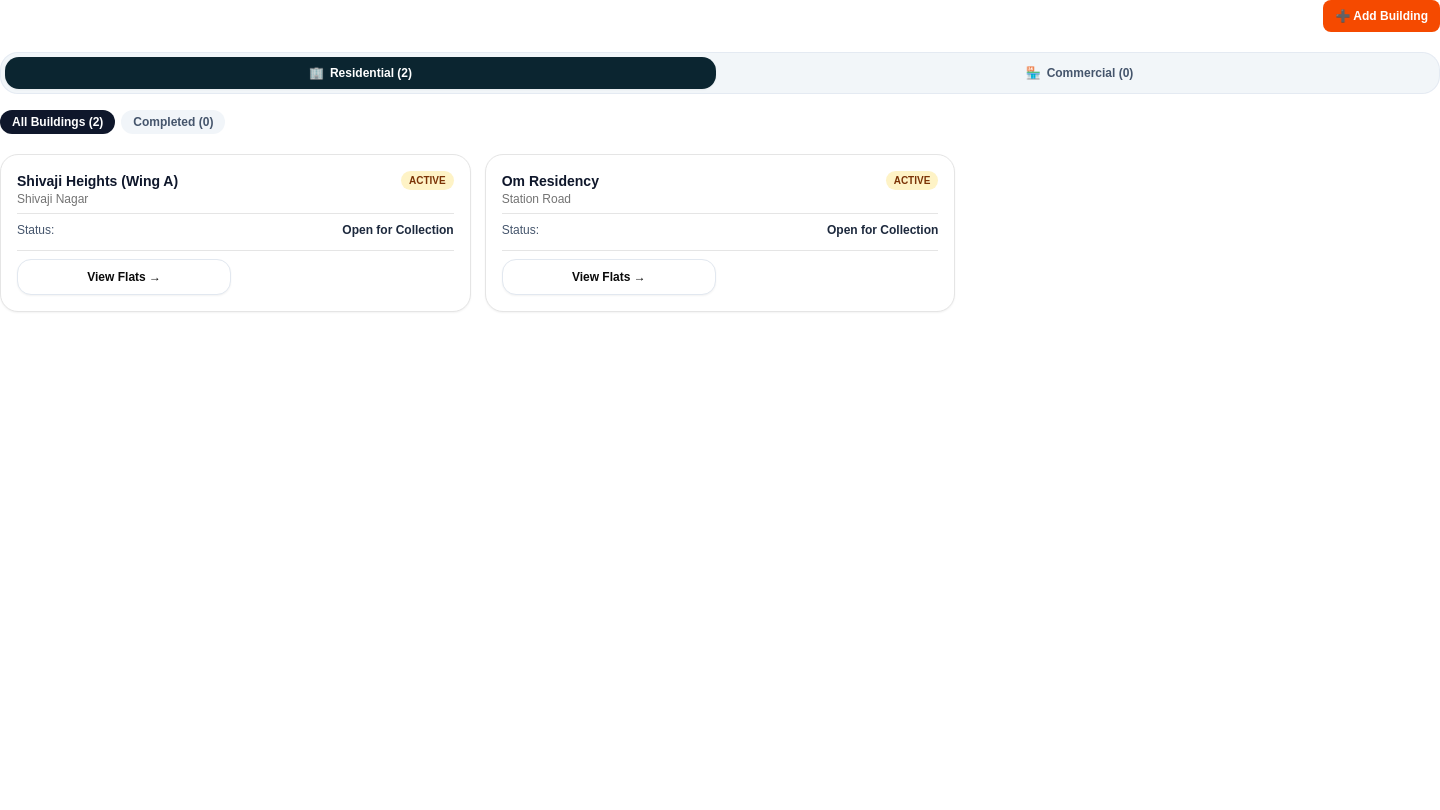
Test: Phase 2I: BuildingsManagementPanel Component › warns on duplicate flat number in same building
This screenshot has width=1440, height=810.
Expected: the heading "Shivaji Heights (Wing A)" is shown, 17,171 -> 178,191
Click the button "View Flats →" below "Shivaji Nagar".
click(124, 277)  # box 17,259 -> 231,295
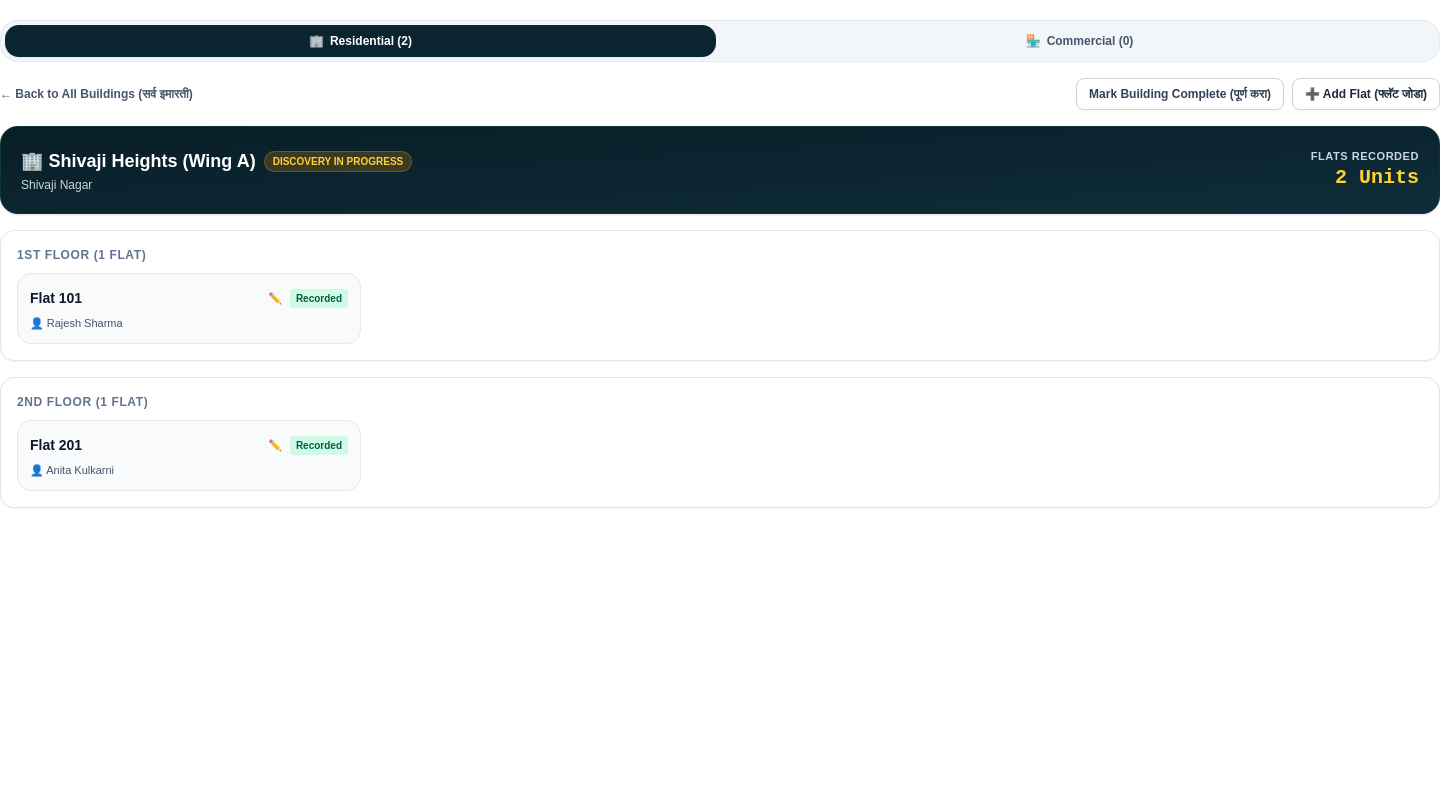
Now the button "➕ Add Flat (फ्लॅट जोडा)" is shown
Click the button "➕ Add Flat (फ्लॅट जोडा)".
click(1366, 94)  # box 1292,78 -> 1439,110
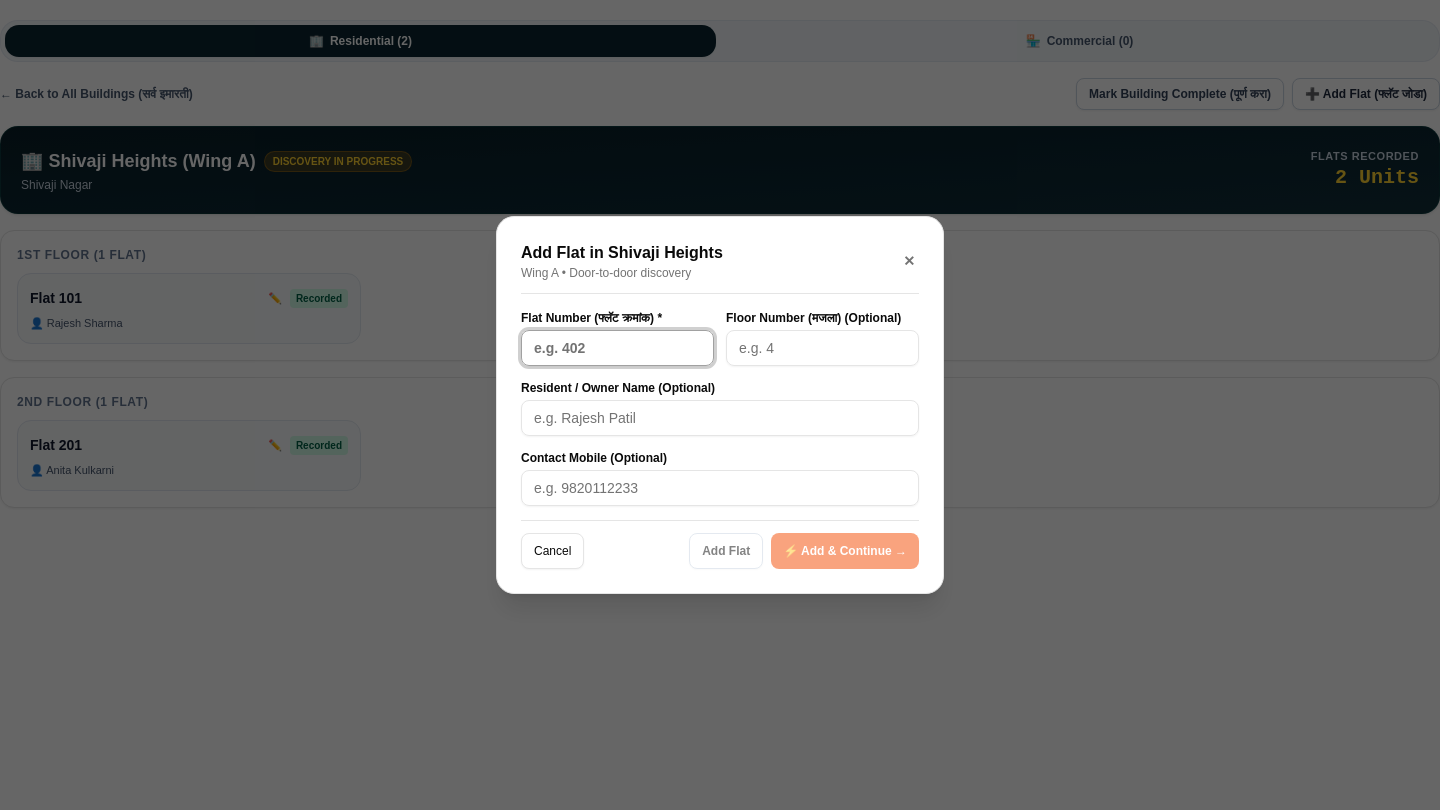
Type "101" into the field labelled "Flat Number (फ्लॅट क्रमांक) *".
click(618, 348); type("101")  # box 521,330 -> 714,366
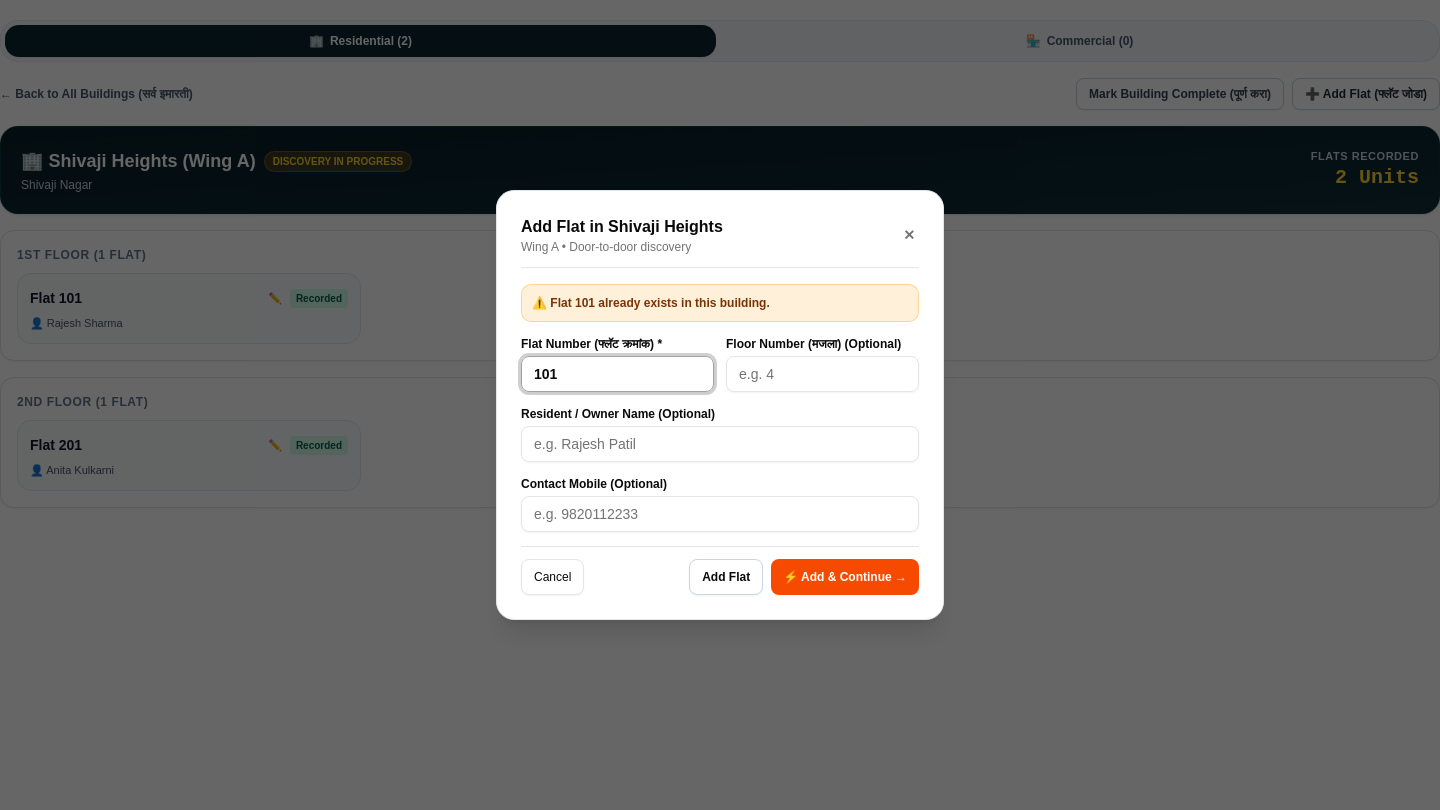
Now the text "⚠️ Flat 101 already exists in this building." is shown, box 521,284 -> 919,322
